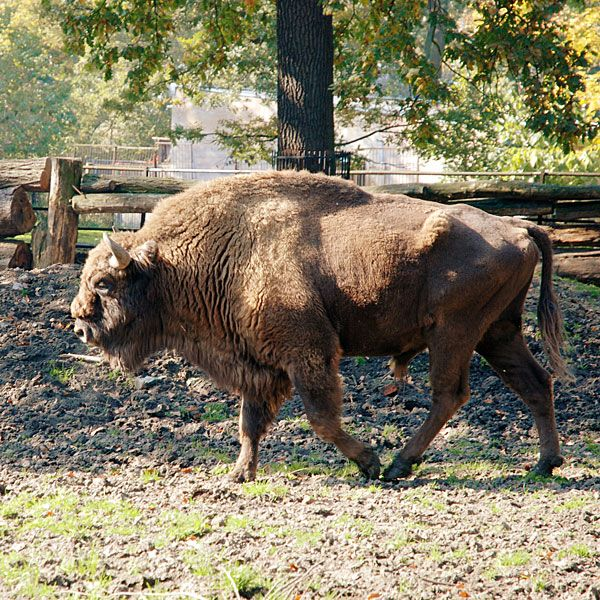zubr: (62, 165, 580, 493)
